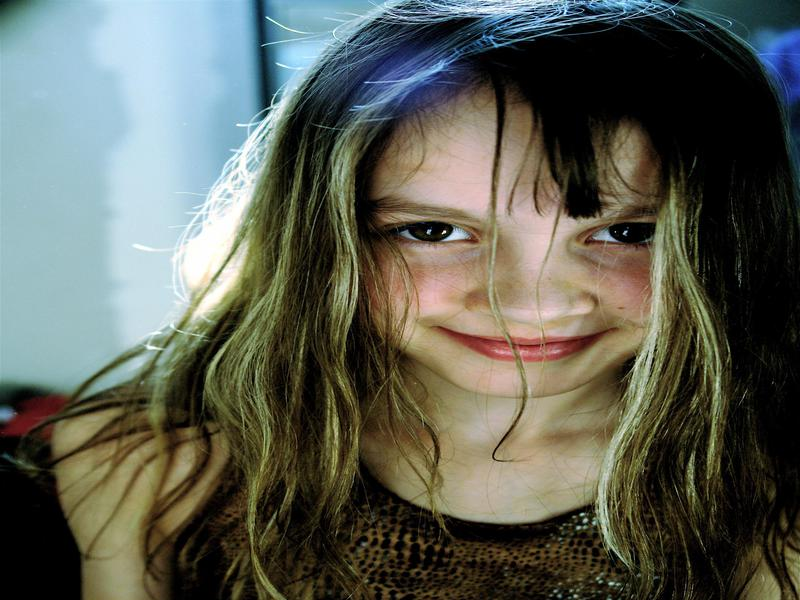person: (57, 6, 800, 596)
